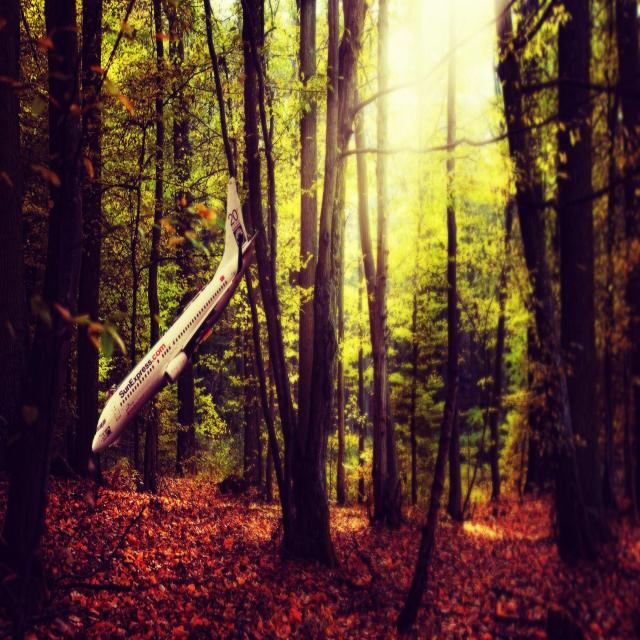airplane: (91, 175, 259, 454)
